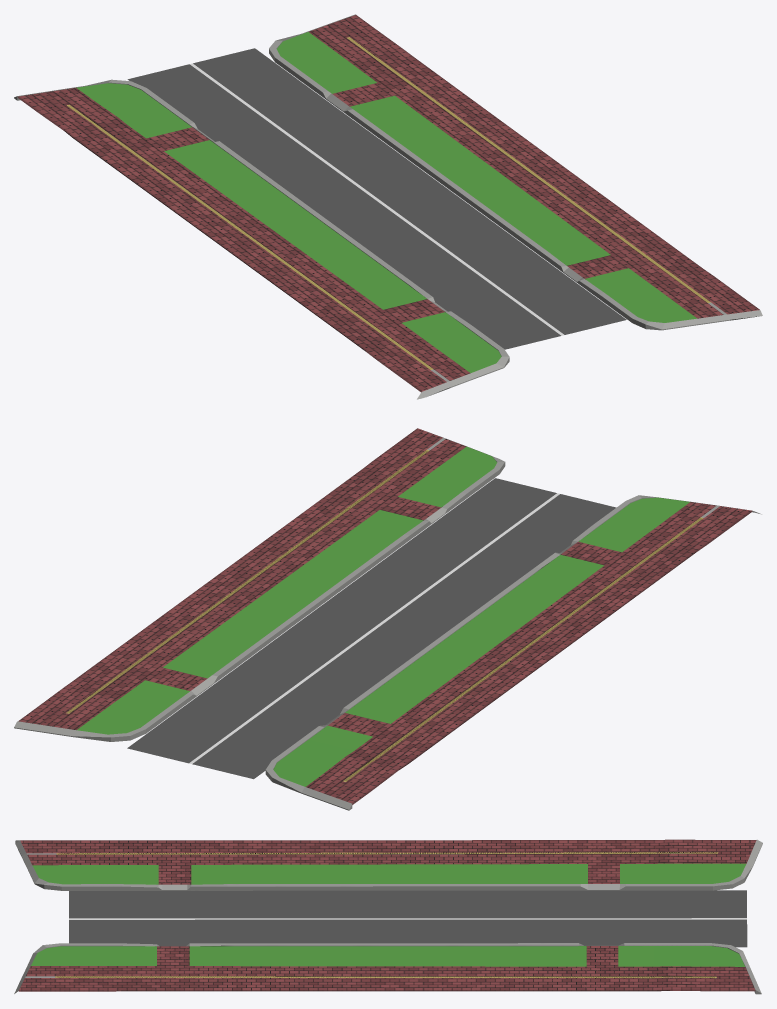
File: highway.glb
3 views of the same model, one above another, from view 1: azimuth 30°, elevation 25°; view 2: azimuth 150°, elevation 25°; view 3: azimuth 270°, elevation 25° (orthographic). The views are drawn at different scales.
Parts seen in each view (by area): view 1: Plane.040, sidewalk.003, sidewalk.006; view 2: Plane.040, sidewalk.003, sidewalk.006; view 3: sidewalk.006, Plane.040, sidewalk.003.
Part boxes in pixels (x1,y1,x2,y2): Plane.040: [127, 48, 626, 349]; sidewalk.003: [269, 14, 762, 330]; sidewalk.006: [14, 79, 509, 399]; Plane.040: [127, 478, 616, 779]; sidewalk.003: [14, 428, 505, 741]; sidewalk.006: [265, 495, 761, 810]; sidewalk.006: [15, 839, 762, 890]; Plane.040: [69, 890, 747, 947]; sidewalk.003: [14, 943, 761, 994].
Bounding box in the file's own units: 38.5 × 0.5165 × 79.11.
Materials: 4 (2 with a texture image).
